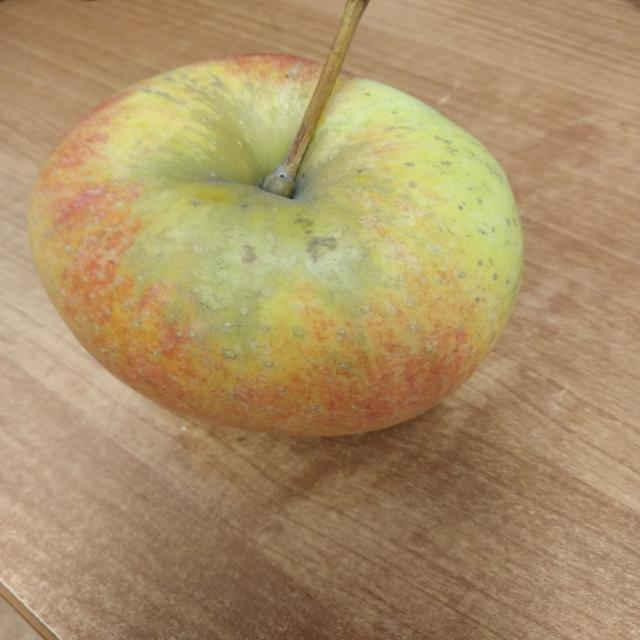Fresh Apple: (47, 53, 523, 455)
